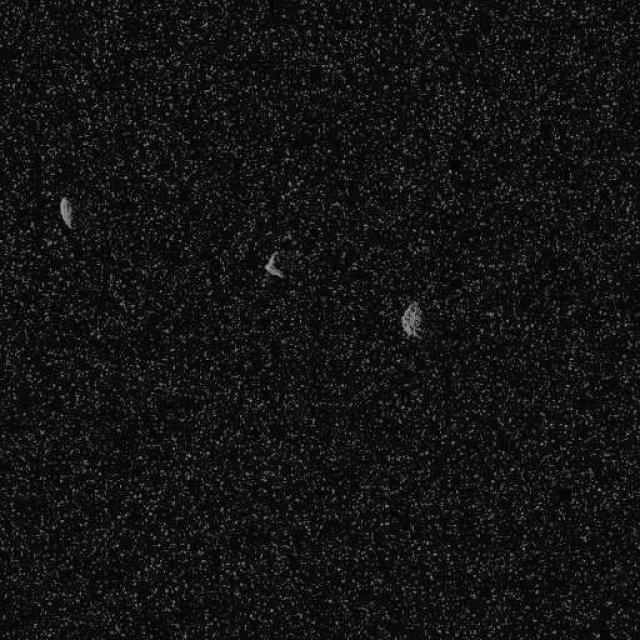D2: (398, 299, 424, 340), (262, 250, 286, 280), (57, 195, 75, 230)
